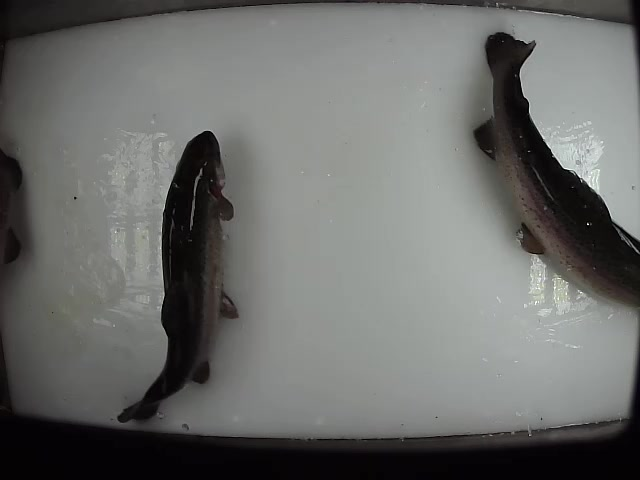Fish: (118, 131, 238, 422)
